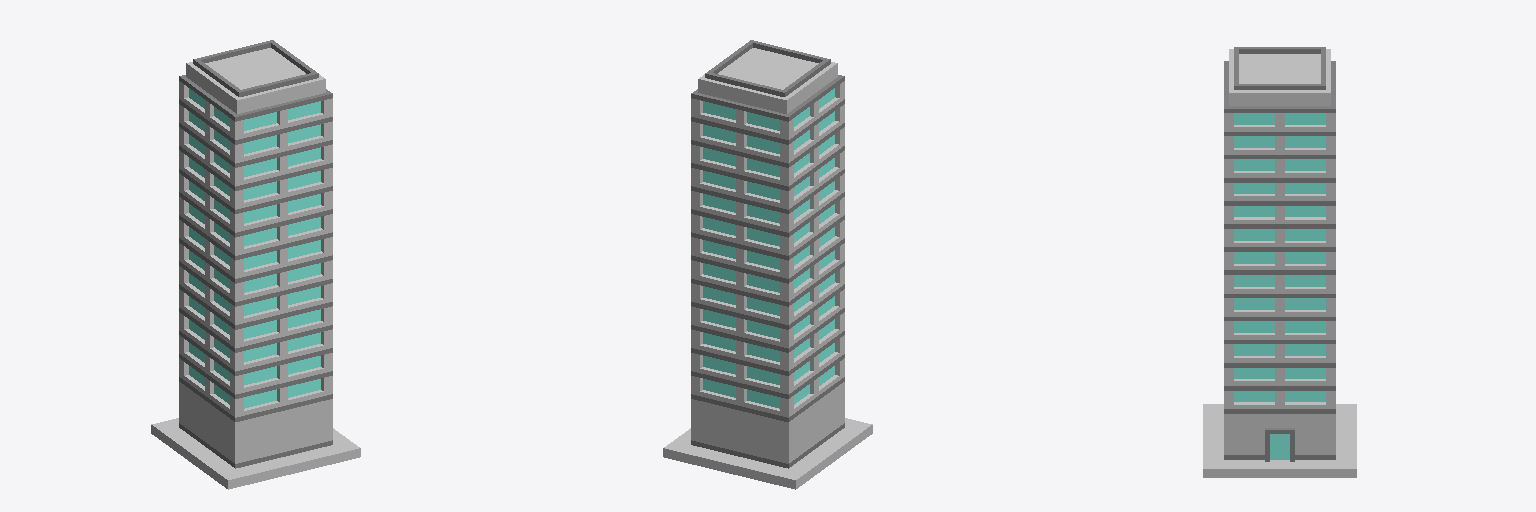
3 views of the same model, side by side, from view 1: azimuth 30°, elevation 25°; view 2: azimuth 150°, elevation 25°; view 3: azimuth 270°, elevation 25° (orthographic).
Size of the model in its own units: 30 by 82 by 30.
Materials: 1 (1 with a texture image).